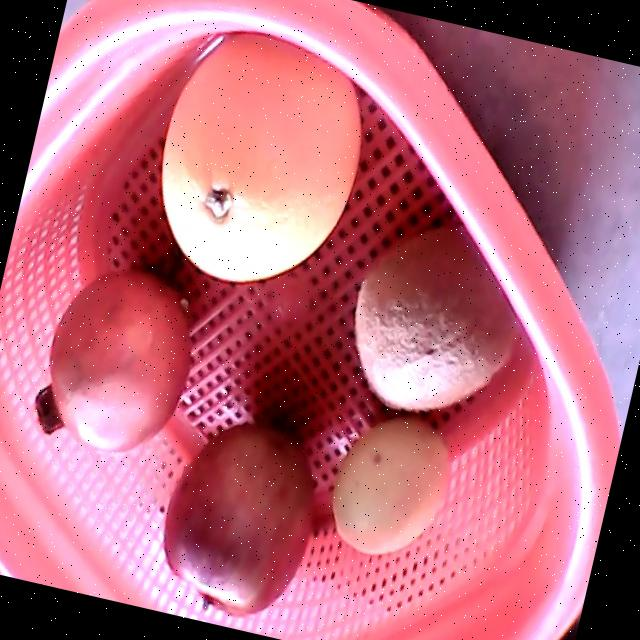apple: (161, 421, 312, 615)
kiwi: (353, 227, 518, 410)
lemon: (332, 417, 447, 552)
orange: (161, 31, 359, 280)
pomegranate: (32, 269, 190, 452)
